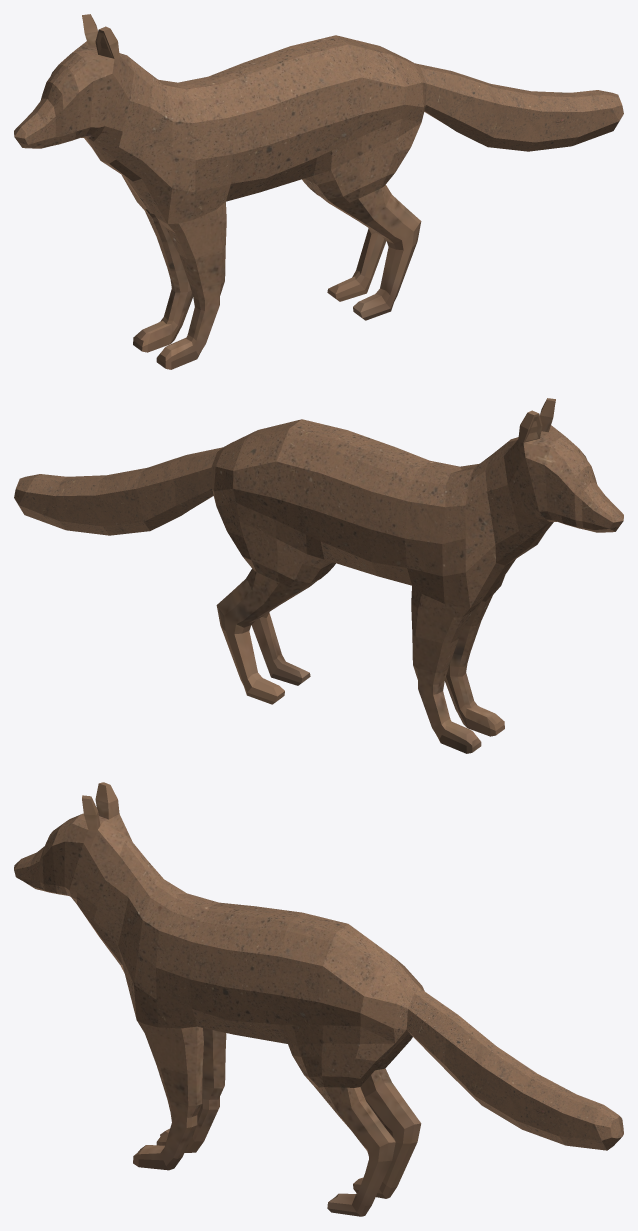
The model's file is fox.glb.
The picture shows the model from 3 angles, top to bottom: view 1: azimuth 30°, elevation 25°; view 2: azimuth 150°, elevation 25°; view 3: azimuth 330°, elevation 25°; orthographic projection.
Parts seen in each view (by area): view 1: Cube; view 2: Cube; view 3: Cube.
Boxes of the visible parts, x1=… form: Cube: x1=14, y1=14, x2=623, y2=369; Cube: x1=14, y1=398, x2=623, y2=753; Cube: x1=14, y1=782, x2=623, y2=1216.
Bounding box in the file's own units: 4.37 × 2.41 × 0.5526.
Materials: 1 (1 with a texture image).
